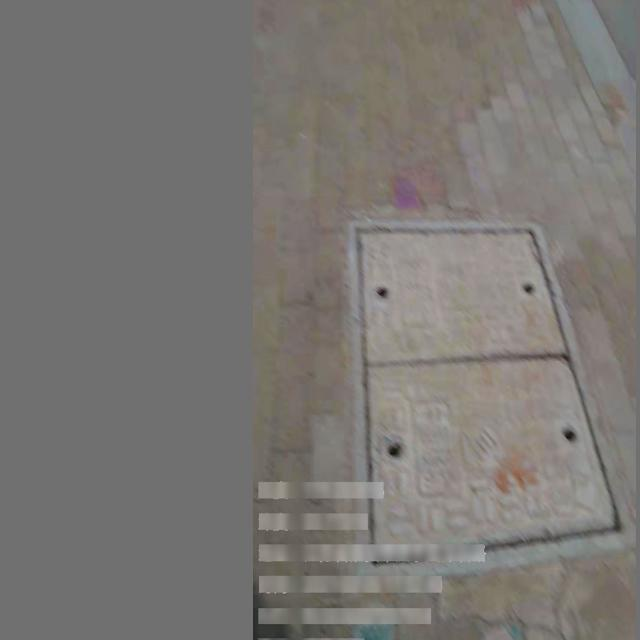good: (348, 217, 635, 582)
